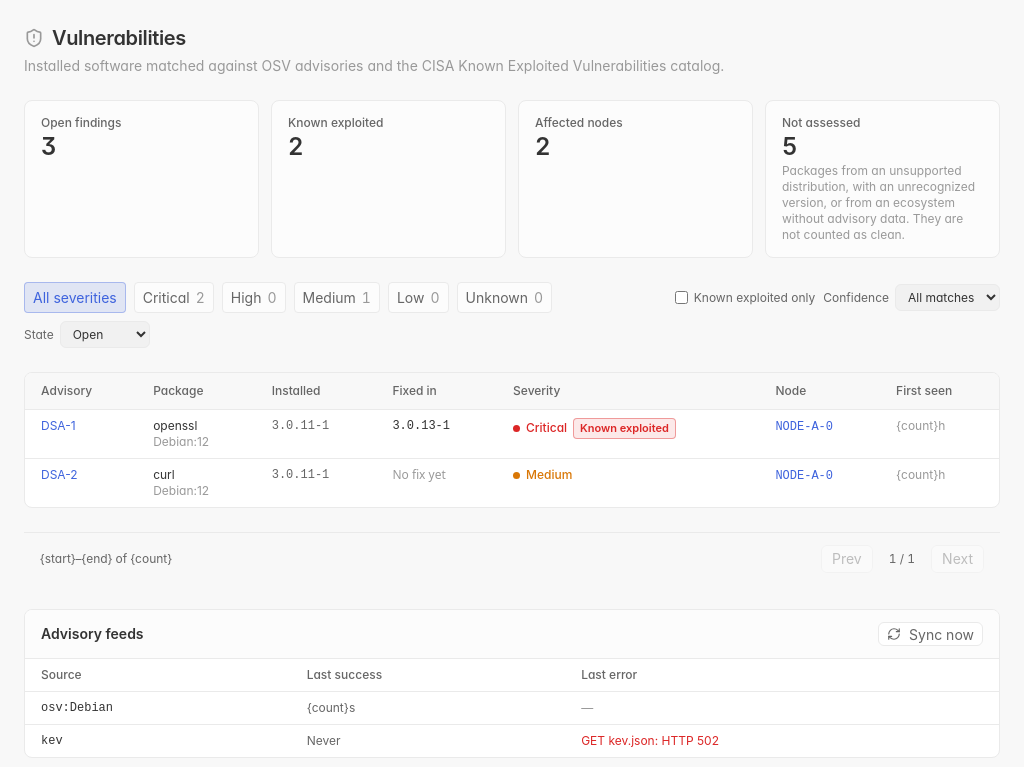
Test: VulnerabilitiesPage › shows feed status and requests a sync for super admins
Expected: the text "osv:Debian" is shown, [25,692,291,724]
Expected: the text "Never" is shown, [291,724,565,757]
Click the button "Sync now" at [931, 634], box [878,622,983,646]
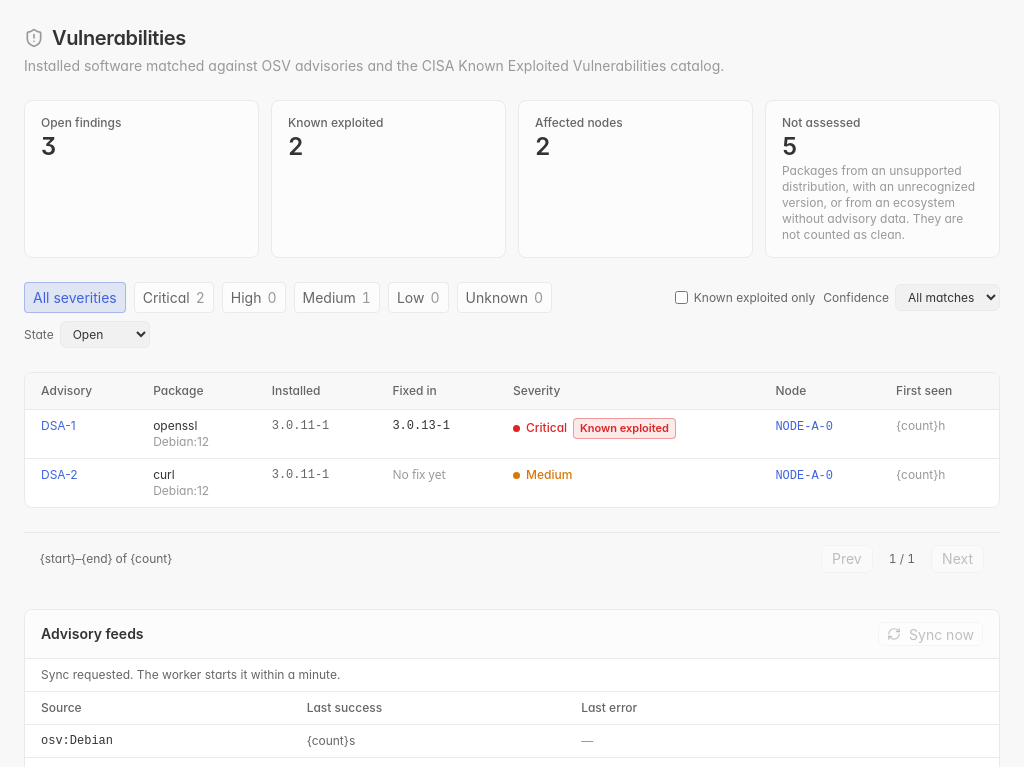
Expected: the text "Sync requested. The worker starts it within a minute." is shown, [25,659,999,692]
Expected: the button "Sync now" is disabled, [878,622,983,646]
